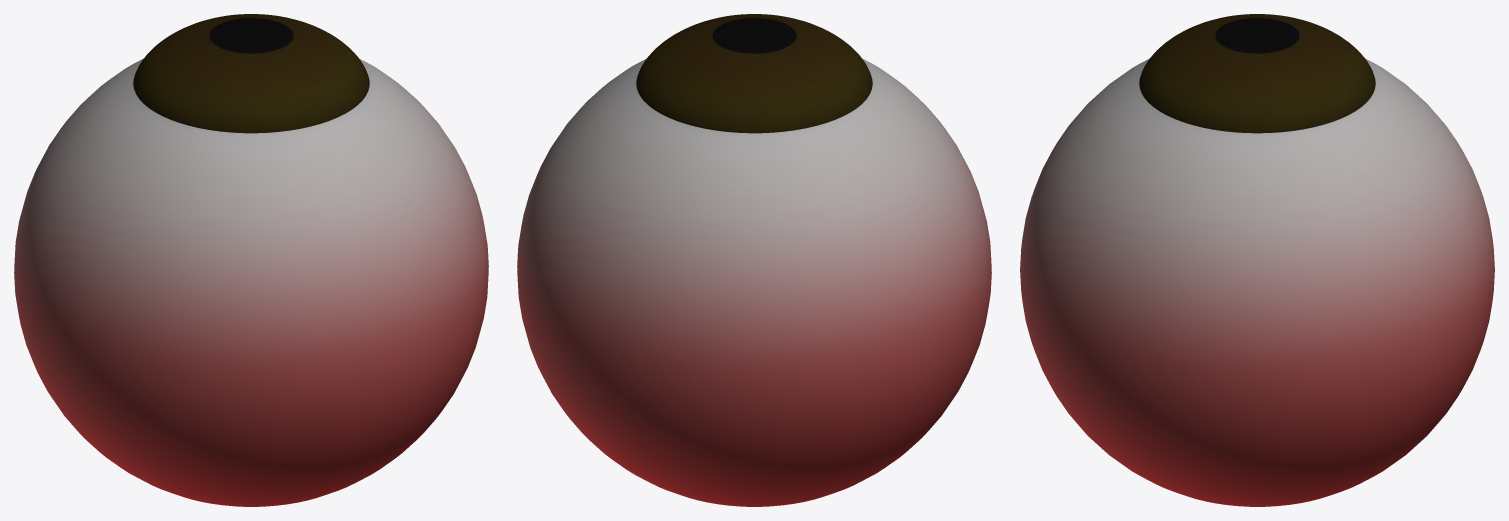
The picture shows the model from 3 angles, left to right: view 1: azimuth 30°, elevation 25°; view 2: azimuth 150°, elevation 25°; view 3: azimuth 270°, elevation 25°; orthographic projection.
Parts seen in each view (by area): view 1: Eyeball_1, Iris_0; view 2: Eyeball_1, Iris_0; view 3: Eyeball_1, Iris_0.
Part boxes in pixels (x1,y1,x2,y2): Eyeball_1: (14,58,488,506); Iris_0: (133,14,369,133); Eyeball_1: (517,58,991,506); Iris_0: (636,14,872,133); Eyeball_1: (1020,58,1494,506); Iris_0: (1139,14,1375,133).
Bounding box in the file's own units: 4 × 4.21 × 4.
Materials: 2 (2 with a texture image).
